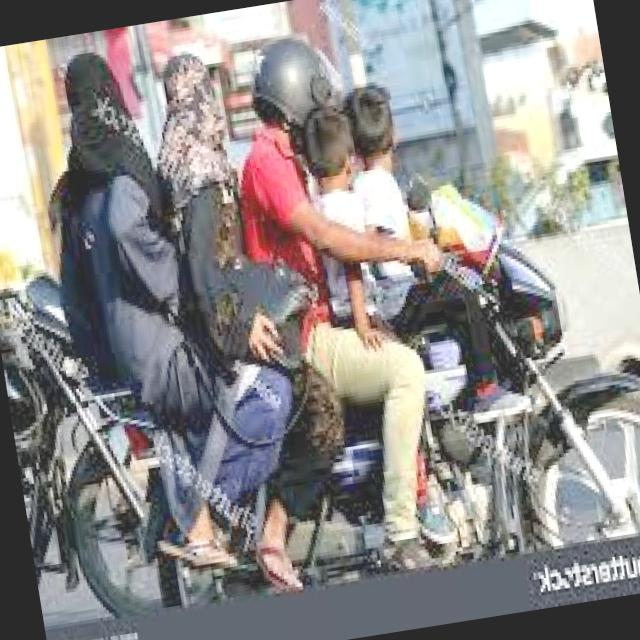motorcycle: (73, 212, 640, 621)
person: (22, 32, 230, 502), (216, 38, 405, 443), (140, 38, 289, 464), (338, 80, 449, 370), (282, 94, 389, 376)
rider_region: (0, 0, 640, 623)
